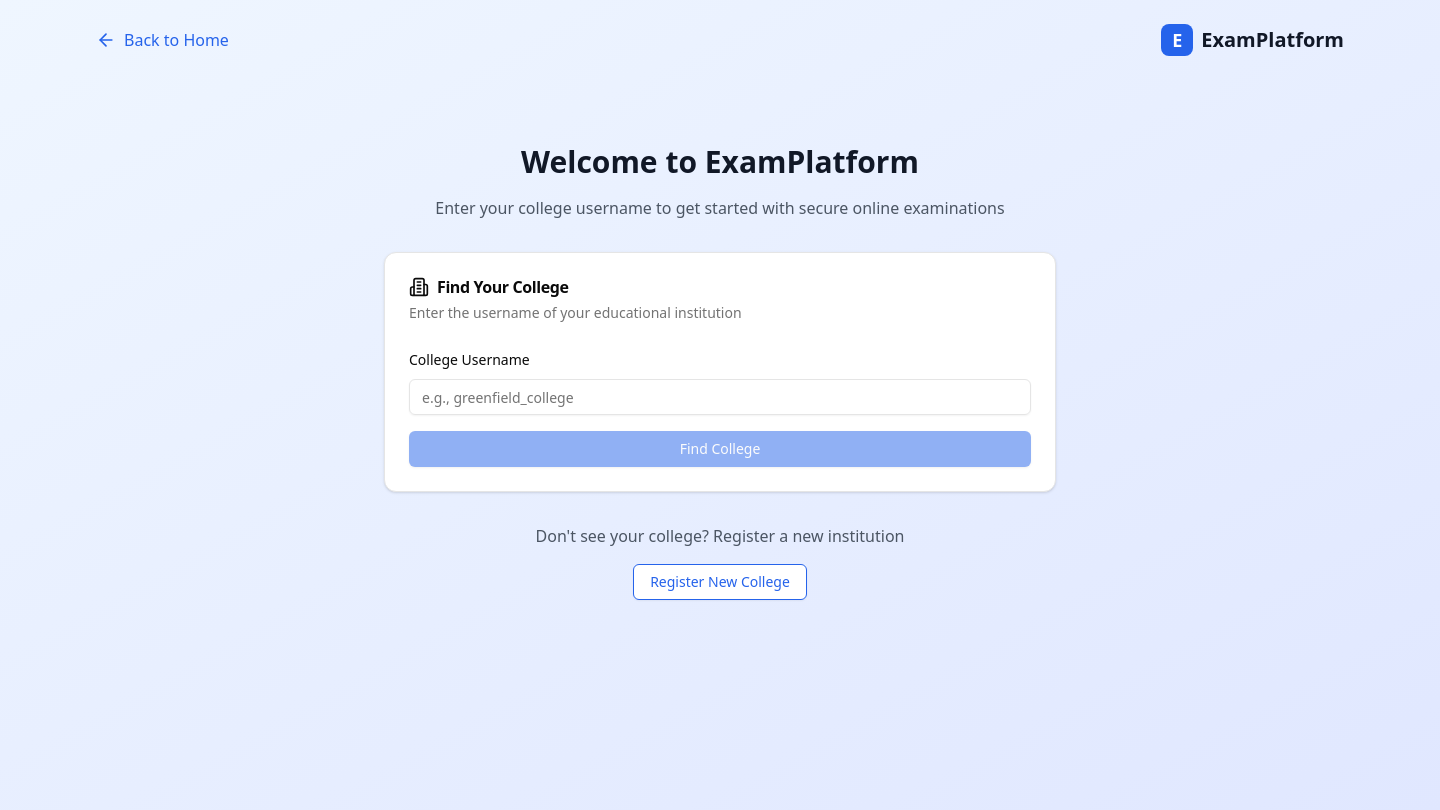
Test: CollegeSelectionPage › College Search › should show loading state during search
The width and height of the screenshot is (1440, 810).
Type "testcollege" into the field labelled "College Username". click: point(720, 397)
box: [409,379,1031,415]
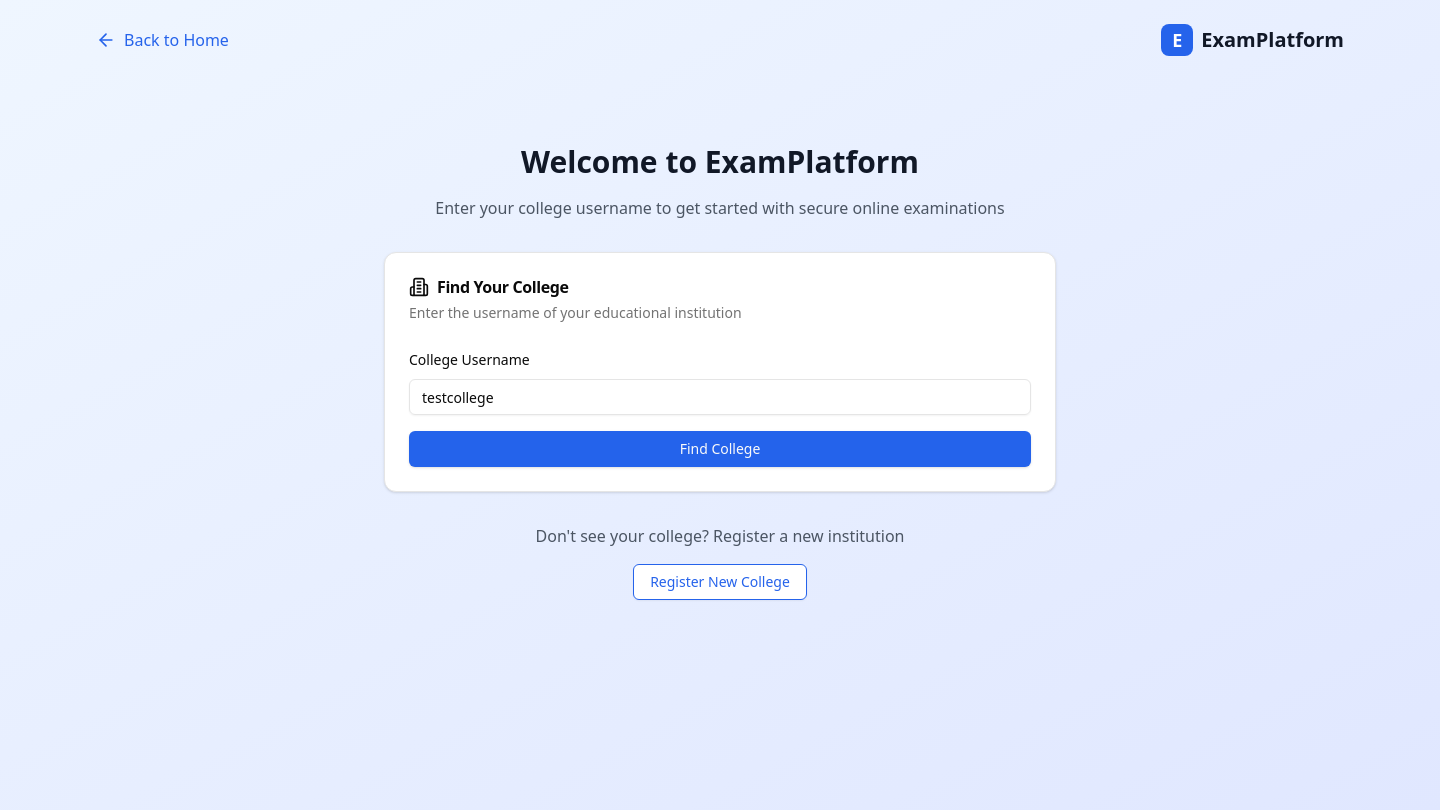
Click the button "Find College". click: point(720, 449)
box: [409,431,1031,467]
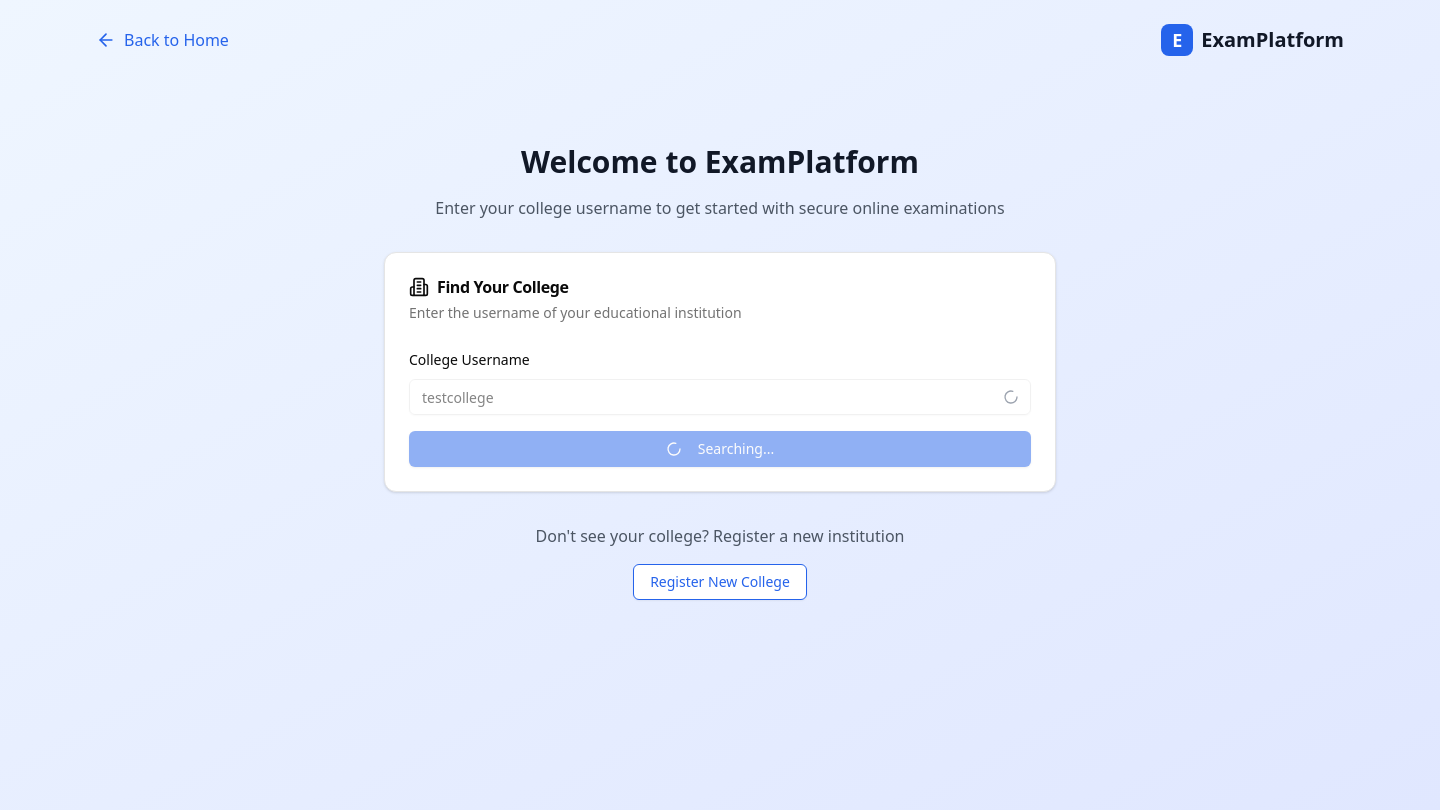
Check: the button "Searching..." is disabled, box [409,431,1031,467]
